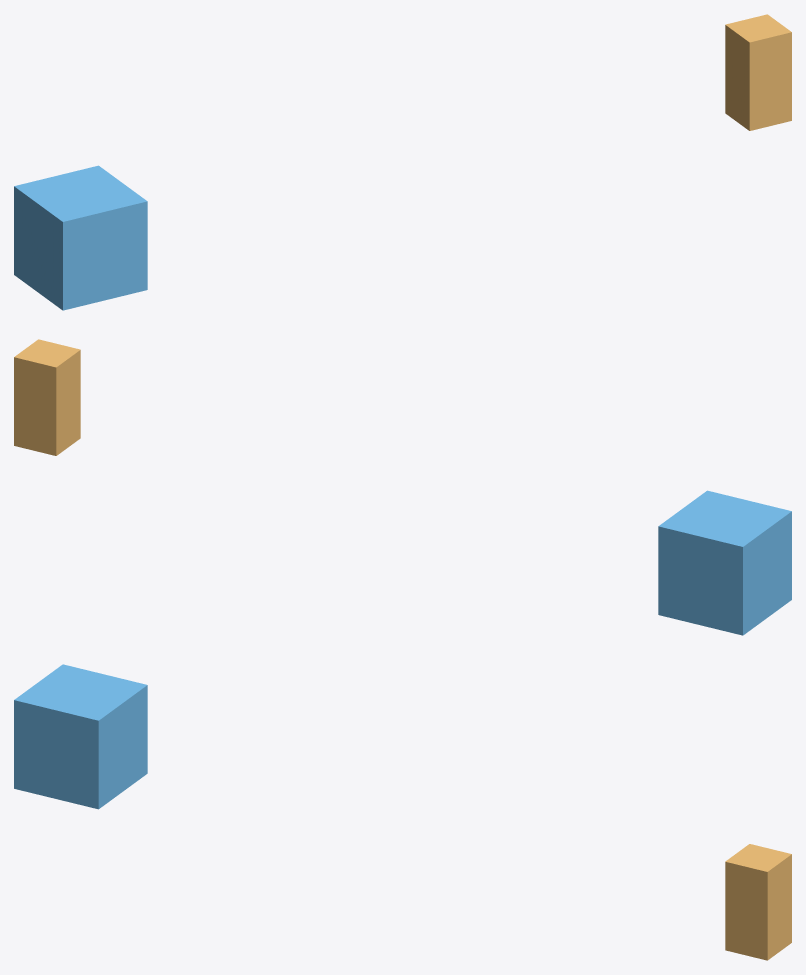
Rendered from house_eccb0dd3.glb.
3 renders of one model, top to bottom at view 1: azimuth 30°, elevation 25°; view 2: azimuth 150°, elevation 25°; view 3: azimuth 330°, elevation 25°, orthographic.
Parts seen in each view (by area): view 1: bedroom, kitchen; view 2: bedroom, kitchen; view 3: bedroom, kitchen.
Boxes of the visible parts, bbox=[...] form: bedroom: bbox=[14, 165, 147, 310]; kitchen: bbox=[725, 14, 791, 130]; bedroom: bbox=[658, 490, 791, 635]; kitchen: bbox=[14, 339, 80, 455]; bedroom: bbox=[14, 664, 147, 809]; kitchen: bbox=[725, 844, 791, 960].
Size of what is drawn, in the model's own units: 35 by 4 by 4.
